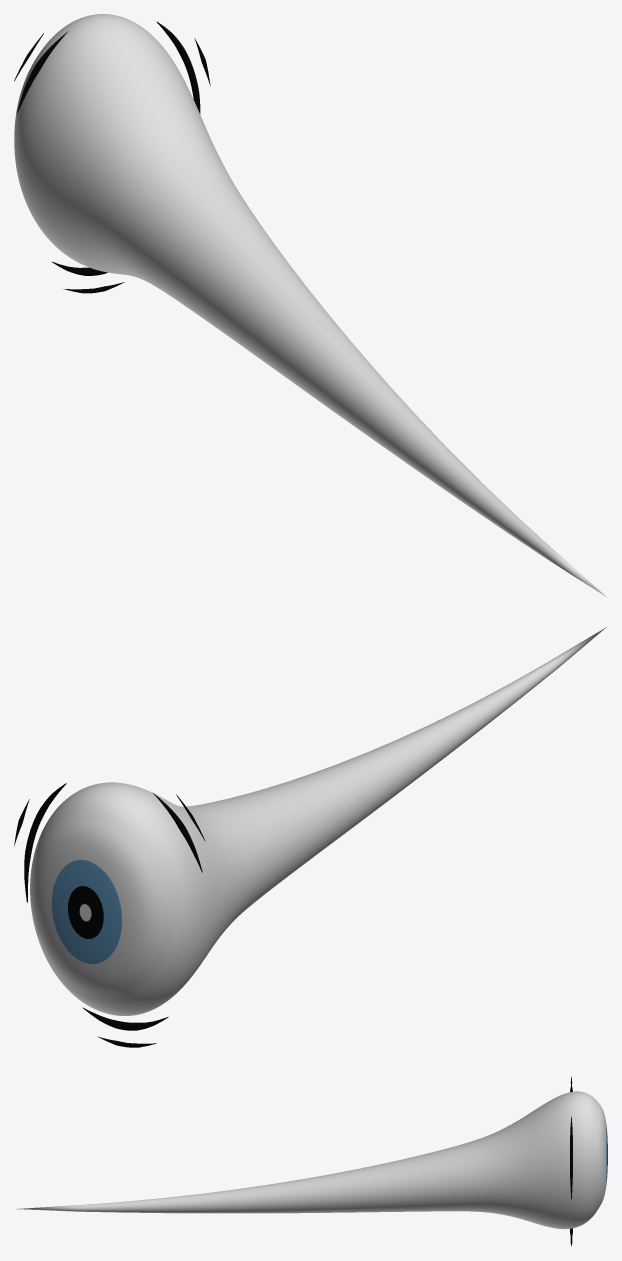
File: cartooneye.glb
3 views of the same model, one above another, from view 1: azimuth 30°, elevation 25°; view 2: azimuth 150°, elevation 25°; view 3: azimuth 270°, elevation 25° (orthographic). The views are drawn at different scales.
Parts seen in each view (by area): view 1: eye, Circle; view 2: eye, Circle; view 3: eye, Circle.
Boxes of the visible parts, x1,y1,x2,y2 form: eye: (14,14,606,596); Circle: (14,21,210,293); eye: (30,627,606,1015); Circle: (14,783,205,1047); eye: (16,1091,607,1229); Circle: (570,1076,572,1246).
Bounding box in the file's own units: 2.44 × 3.24 × 11.54.
